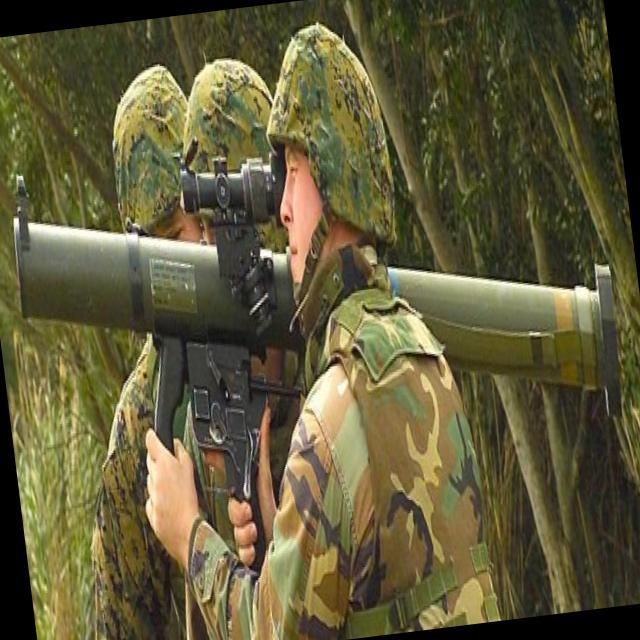rocket: (3, 94, 629, 483)
